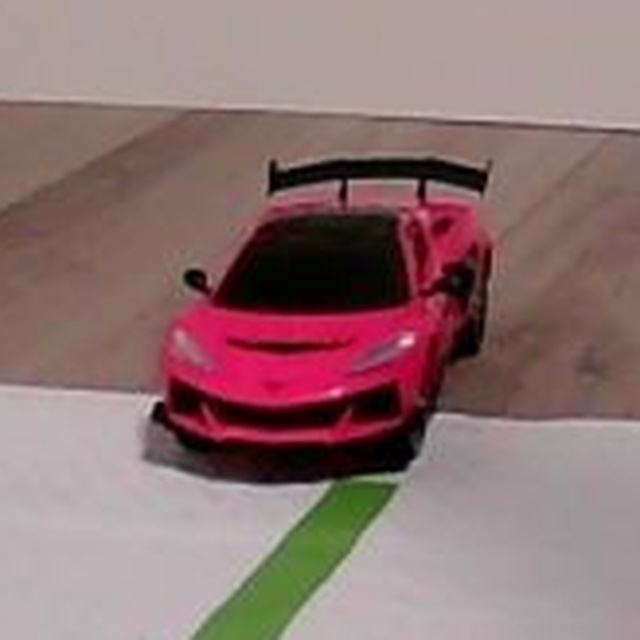tire_rear_driver: (445, 285, 488, 362)
